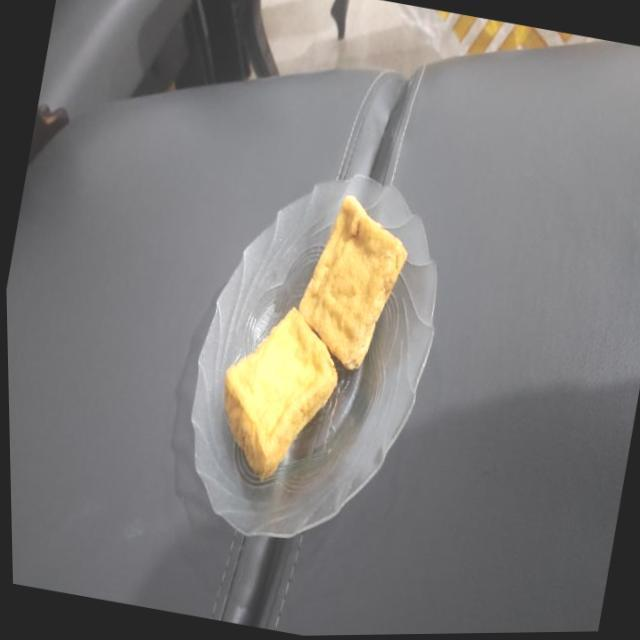tahu_goreng: (224, 307, 337, 480), (299, 196, 407, 370)
